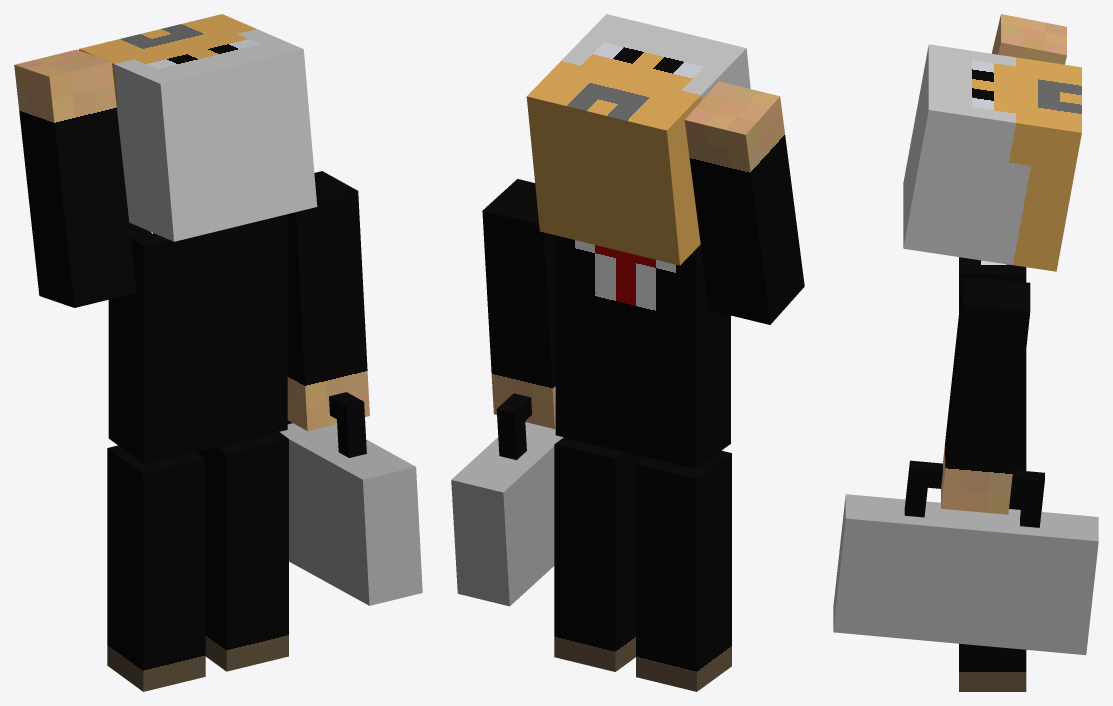
The model's file is FiscControlleurClosed.glb.
The picture shows the model from 3 angles, left to right: view 1: azimuth 30°, elevation 25°; view 2: azimuth 150°, elevation 25°; view 3: azimuth 270°, elevation 25°; orthographic projection. The views are drawn at different scales.
Parts seen in each view (by area): view 1: body, leg_left, leg_right; view 2: body, leg_left, leg_right; view 3: body, leg_right.
Part boxes in pixels (x1,y1,x2,y2): body: [14, 14, 422, 605]; leg_left: [107, 445, 205, 691]; leg_right: [196, 432, 288, 671]; body: [451, 14, 804, 606]; leg_left: [636, 450, 731, 691]; leg_right: [554, 437, 644, 671]; body: [833, 14, 1098, 655]; leg_right: [959, 495, 1026, 691].
Bounding box in the file's own units: 0.8675 × 1.78 × 0.7363.
Materials: 2 (2 with a texture image).
